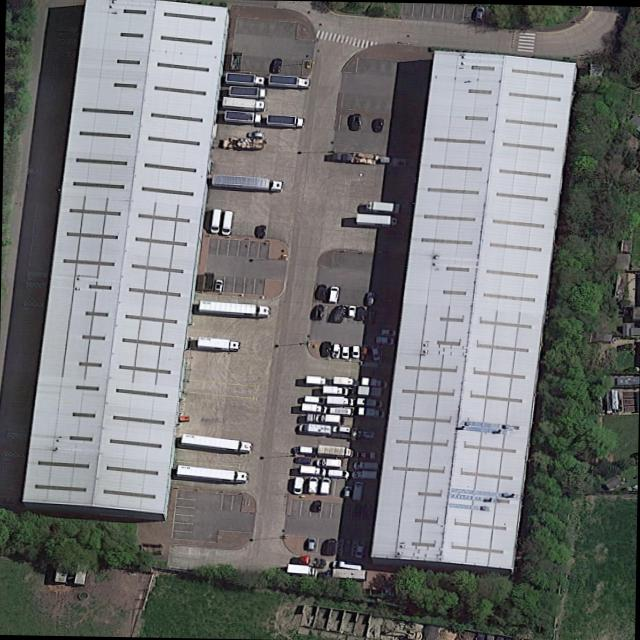large-vehicle: (179, 431, 254, 452), (176, 463, 248, 483), (210, 172, 284, 191), (197, 298, 271, 317), (221, 94, 267, 111), (196, 334, 241, 351), (268, 72, 312, 88), (355, 211, 399, 226), (224, 71, 267, 86), (324, 566, 367, 580), (265, 112, 305, 127), (223, 108, 263, 123), (317, 442, 356, 457), (364, 199, 401, 214), (228, 84, 267, 98), (297, 421, 332, 434), (286, 561, 318, 575), (298, 553, 327, 567), (314, 411, 343, 424), (325, 393, 355, 405), (210, 207, 224, 232), (356, 395, 385, 407), (357, 405, 386, 417), (360, 375, 388, 387), (299, 401, 329, 412), (221, 209, 234, 234), (332, 374, 361, 385), (305, 373, 333, 384), (350, 468, 378, 479), (315, 456, 342, 467), (352, 459, 379, 470), (299, 463, 326, 474), (322, 384, 351, 394), (291, 444, 317, 454), (329, 405, 355, 415), (353, 480, 364, 500)
small-vehicle: (330, 303, 349, 323), (293, 475, 305, 493), (320, 476, 332, 494), (328, 284, 340, 302), (308, 474, 319, 493), (315, 283, 328, 299), (319, 340, 332, 356), (327, 467, 350, 476), (366, 306, 378, 323), (313, 302, 325, 319), (375, 334, 395, 344), (303, 394, 325, 403), (331, 424, 352, 433), (326, 537, 337, 554), (351, 112, 362, 128), (474, 4, 485, 19), (272, 57, 283, 72), (365, 290, 376, 305), (362, 502, 372, 518), (373, 117, 384, 131), (370, 346, 381, 360), (306, 536, 316, 551), (352, 501, 362, 516), (379, 327, 397, 335), (257, 223, 267, 237), (356, 305, 365, 320), (332, 342, 341, 357), (343, 484, 353, 497), (295, 456, 311, 464), (312, 499, 322, 511), (355, 544, 364, 557), (347, 303, 356, 316), (352, 343, 360, 357), (247, 130, 265, 136), (214, 278, 223, 290), (341, 345, 349, 358)
